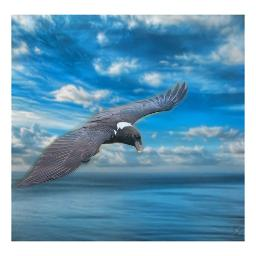Crow: (11, 80, 189, 191)
